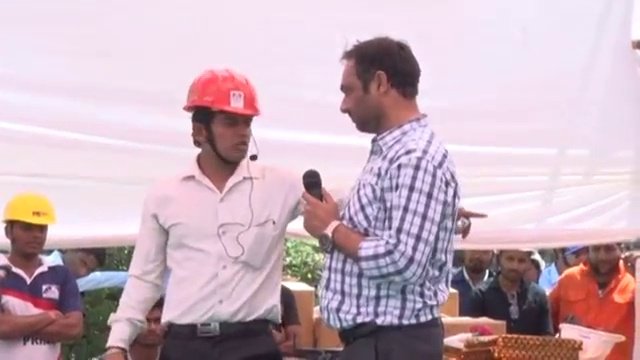helmet: (176, 69, 268, 121), (557, 321, 627, 360), (0, 195, 57, 233)
helmet_off: (338, 37, 427, 135), (123, 295, 166, 358), (58, 247, 104, 282), (497, 249, 537, 287), (584, 240, 625, 275), (461, 243, 490, 278)
helmet_on: (176, 70, 269, 179), (0, 193, 58, 273)
person: (100, 67, 310, 359), (300, 34, 453, 359), (0, 192, 81, 356), (550, 237, 640, 359), (463, 249, 553, 330), (448, 240, 496, 295)
